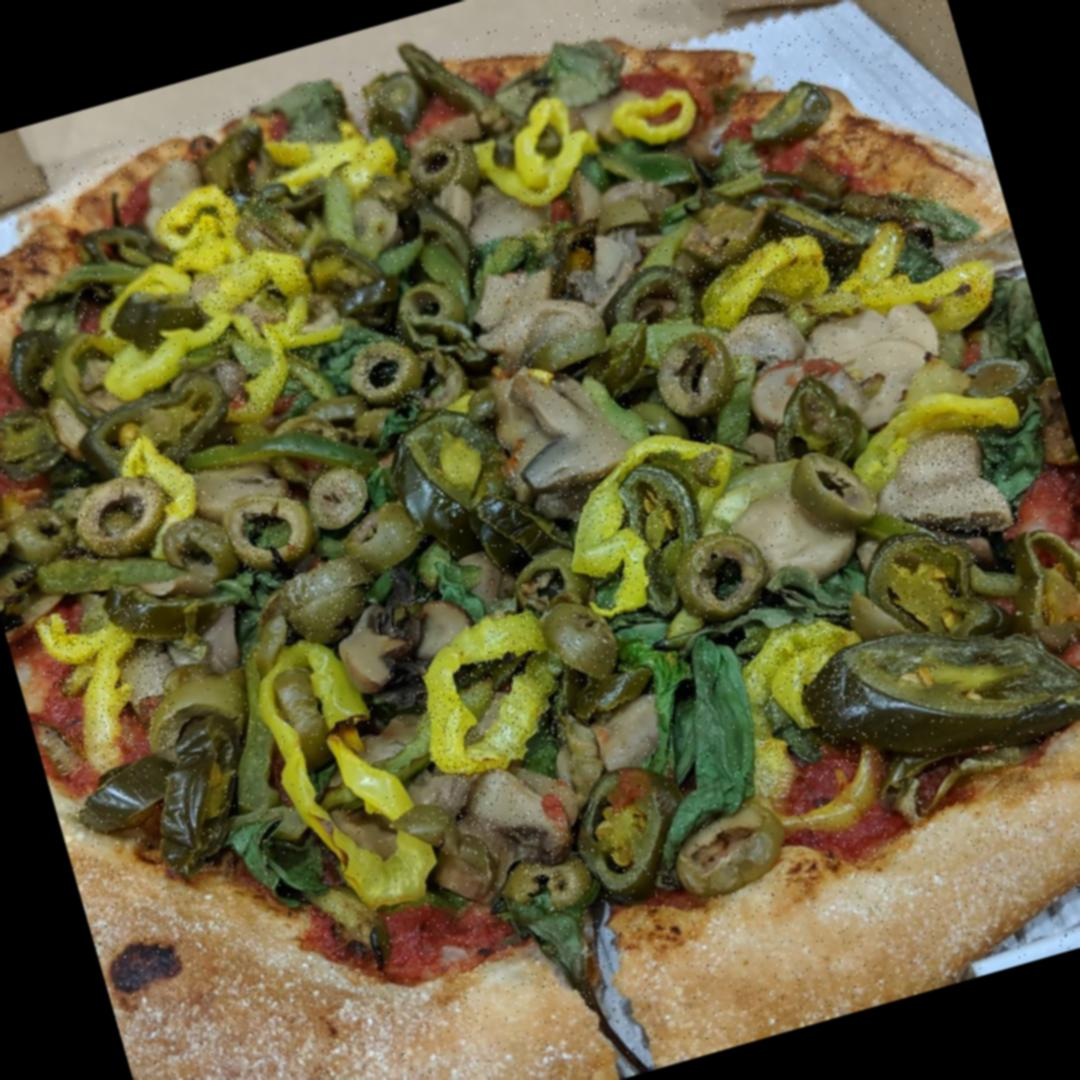Ham: (495, 334, 652, 514), (462, 212, 620, 366), (782, 289, 952, 426), (876, 420, 1024, 557), (708, 453, 848, 591), (339, 576, 489, 694), (444, 746, 576, 865)
Olives: (659, 798, 806, 905), (866, 522, 966, 634), (642, 320, 738, 416), (783, 434, 872, 536), (273, 554, 378, 640), (545, 588, 631, 688), (74, 476, 174, 561), (142, 678, 238, 766), (668, 529, 760, 616), (222, 486, 312, 574), (338, 495, 429, 581), (505, 844, 592, 928), (276, 666, 348, 767), (349, 322, 421, 412), (613, 265, 699, 338), (393, 270, 470, 346), (159, 513, 232, 585), (401, 138, 478, 198), (308, 462, 371, 523), (378, 292, 382, 294)
Peppers: (242, 617, 452, 916), (691, 176, 995, 380), (479, 49, 728, 199), (559, 431, 743, 601), (30, 592, 186, 776), (400, 612, 576, 774), (730, 606, 884, 790), (160, 178, 308, 324), (273, 89, 431, 202), (850, 376, 1012, 484), (204, 298, 326, 421), (96, 270, 208, 390), (111, 426, 214, 540)
Pizza: (0, 0, 1080, 1080)
